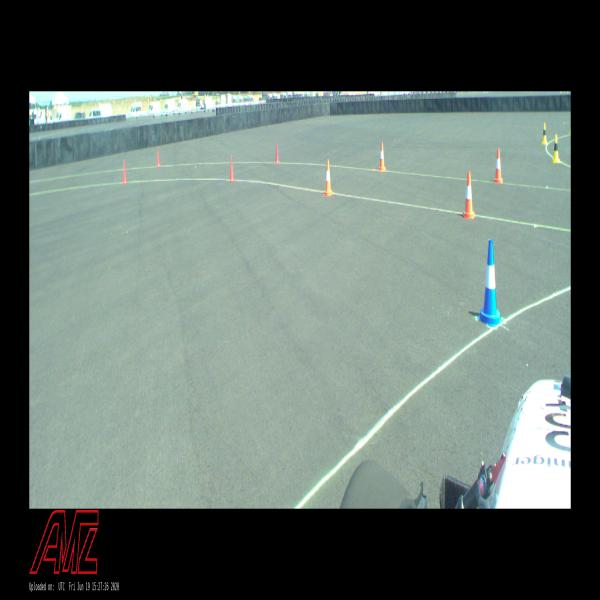blue_cone: (477, 239, 504, 327)
orange_cone: (463, 172, 475, 219), (323, 160, 333, 196), (494, 149, 503, 183), (379, 142, 386, 171)
unknown_cone: (229, 156, 235, 182), (274, 142, 280, 162), (122, 160, 127, 184), (156, 148, 160, 166)
yellow_cone: (552, 134, 561, 162), (542, 123, 548, 144), (569, 124, 571, 134)
